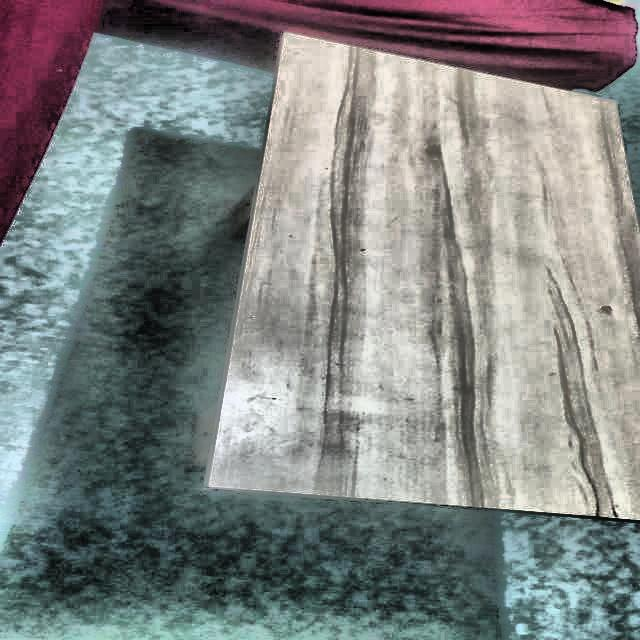mesa: (178, 29, 640, 541)
